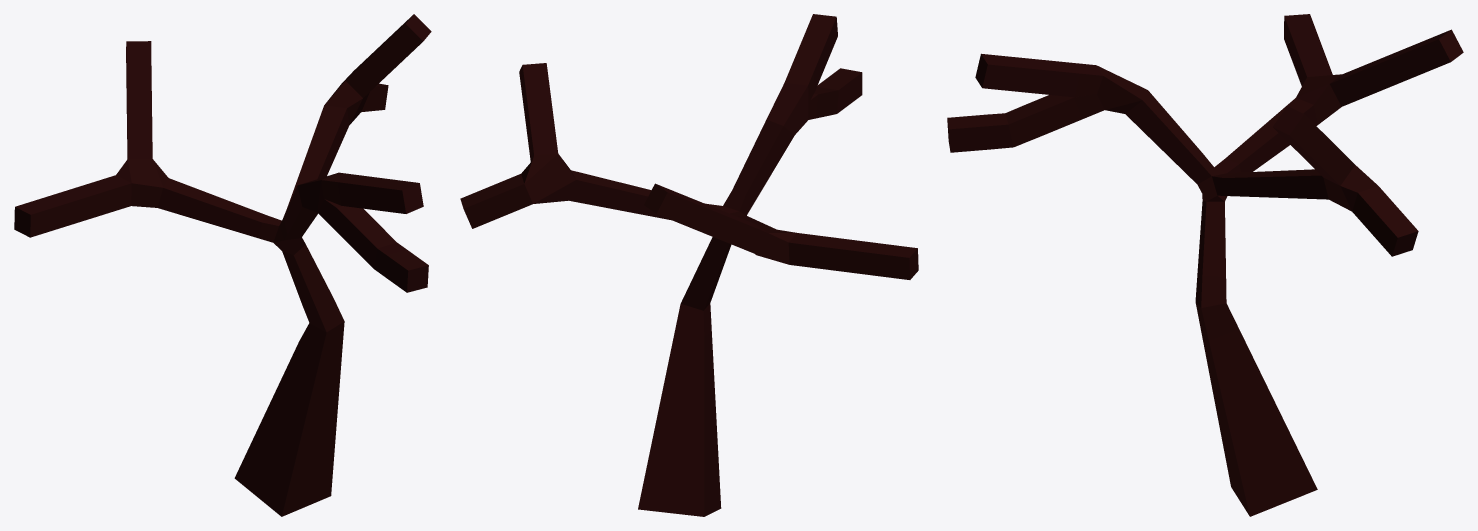
The model's file is stam.fbx.
The picture shows the model from 3 angles, left to right: view 1: azimuth 30°, elevation 25°; view 2: azimuth 150°, elevation 25°; view 3: azimuth 270°, elevation 25°; orthographic projection. The views are drawn at different scales.
Visible parts, largest first — view 1: Cube.001; view 2: Cube.001; view 3: Cube.001.
Part boxes in pixels (x1,y1,x2,y2): Cube.001: [14, 14, 431, 516]; Cube.001: [460, 14, 918, 516]; Cube.001: [947, 14, 1463, 516].
Bounding box in the file's own units: 222 × 223 × 227.
